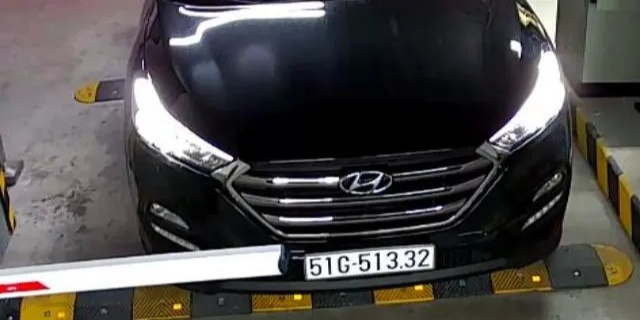bien_so: (305, 248, 432, 276)
